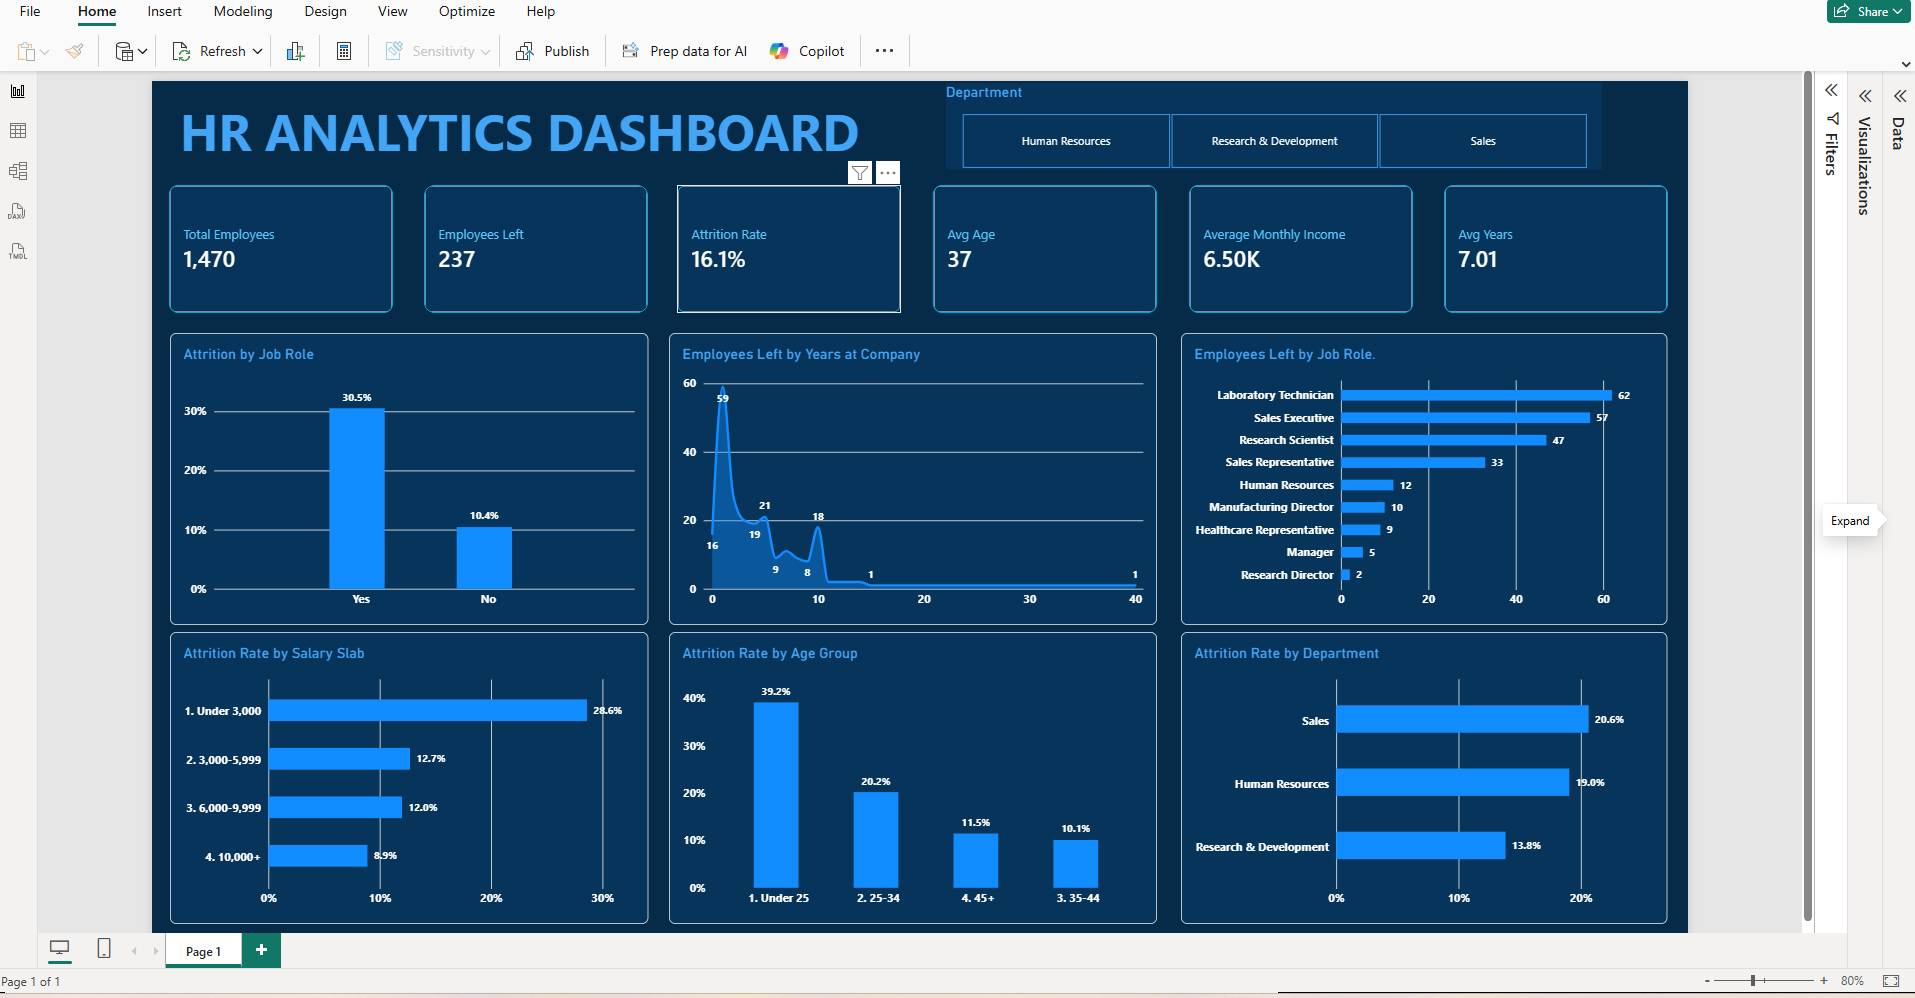

The page's visual inventory and layout, read from the dashboard file:
{"tool":"powerbi","page":{"name":"Page 1","canvas":[1920,1080],"ordinal":0},"visuals":[{"type":"cardVisual","fields":{"Data":["employees.Total Employees Count"]},"box":[21.7,130,280,160],"z":0},{"type":"cardVisual","fields":{"Data":["employees.Attrition Count"]},"box":[340,130,280,160],"z":1000},{"type":"cardVisual","fields":{"Data":["employees.Attrition %"]},"box":[656.7,130,280,160],"z":2000},{"type":"cardVisual","title":"Average Monthly Income","fields":{"Data":["employees.Average Monthly Income"]},"box":[1296.7,130,280,160],"z":3000},{"type":"clusteredBarChart","title":"Attrition Rate by Department","fields":{"Category":["employees.Department"],"Y":["employees.Attrition Rate"]},"box":[1286.8,688.6,608.4,364.7],"z":4000},{"type":"textbox","title":"HR ANALYTICS DASHBOARD","box":[35,20,1041.7,71.7],"z":5000},{"type":"slicer","title":"Department","fields":{"Values":["employees.Department"]},"box":[993,1.9,820,108.3],"z":6000},{"type":"cardVisual","title":"Avg Age","fields":{"Data":["employees.Avg Age"]},"box":[976.7,130,280,160],"z":7000},{"type":"cardVisual","fields":{"Data":["employees.Avg Years"]},"box":[1615,130,280,160],"z":8000},{"type":"clusteredColumnChart","title":"Attrition by Job Role","fields":{"Category":["employees.OverTime"],"Y":["employees.Attrition Rate"]},"box":[21.9,315.1,598.2,364.7],"z":9000},{"type":"clusteredColumnChart","title":"Attrition Rate by Age Group","fields":{"Category":["employees.age_group"],"Y":["employees.Attrition Rate"]},"box":[646.3,688.6,609.8,364.7],"z":10000},{"type":"clusteredBarChart","title":"Attrition Rate by Salary Slab","fields":{"Category":["employees.income_band"],"Y":["employees.Attrition Rate"]},"box":[21.9,688.6,598.2,364.7],"z":11000},{"type":"areaChart","title":"Employees Left by Years at Company","fields":{"Category":["employees.YearsAtCompany"],"Y":["CountNonNull(employees.EmployeeNumber)"]},"box":[646.3,315.1,609.8,364.7],"z":12000},{"type":"clusteredBarChart","title":"Employees Left by Job Role.","fields":{"Category":["employees.JobRole"],"Y":["CountNonNull(employees.EmployeeNumber)"]},"box":[1286.8,315.1,608.4,364.7],"z":13000}]}

Visuals, with their boxes on the page's 1920x1080 design canvas (x1, y1, x2, y2). These are canvas units, not pixel positions in the 1915x998 screenshot, which may show the page scaled, cropped or inside an application window:
cardVisual - employees.Total Employees Count: [22,130,302,290]
cardVisual - employees.Attrition Count: [340,130,620,290]
cardVisual - employees.Attrition %: [657,130,937,290]
"Average Monthly Income" cardVisual: [1297,130,1577,290]
"Attrition Rate by Department" clusteredBarChart: [1287,689,1895,1053]
"HR ANALYTICS DASHBOARD" textbox: [35,20,1077,92]
"Department" slicer: [993,2,1813,110]
"Avg Age" cardVisual: [977,130,1257,290]
cardVisual - employees.Avg Years: [1615,130,1895,290]
"Attrition by Job Role" clusteredColumnChart: [22,315,620,680]
"Attrition Rate by Age Group" clusteredColumnChart: [646,689,1256,1053]
"Attrition Rate by Salary Slab" clusteredBarChart: [22,689,620,1053]
"Employees Left by Years at Company" areaChart: [646,315,1256,680]
"Employees Left by Job Role." clusteredBarChart: [1287,315,1895,680]
